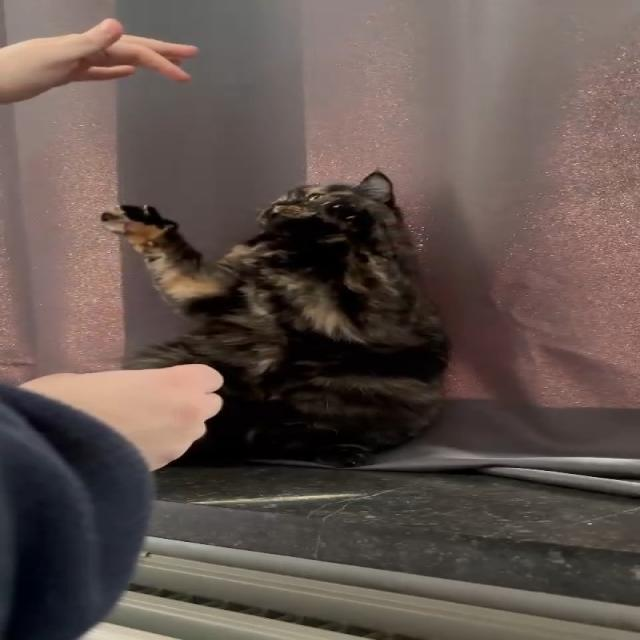authorized: (99, 168, 453, 468)
